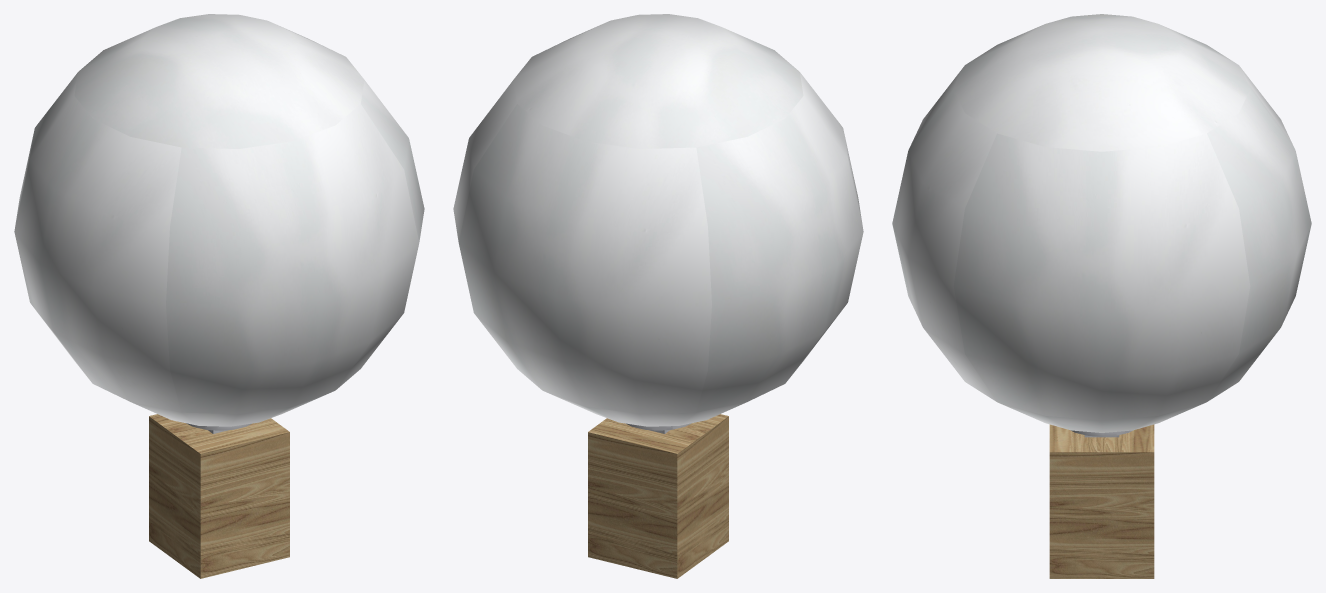
File: CeilingLamp001.FBX
3 views of the same model, side by side, from view 1: azimuth 30°, elevation 25°; view 2: azimuth 150°, elevation 25°; view 3: azimuth 270°, elevation 25° (orthographic).
Parts seen in each view (by area): view 1: CeilingLamp001; view 2: CeilingLamp001; view 3: CeilingLamp001.
Boxes of the visible parts, x1,y1,x2,y2 form: CeilingLamp001: (14,14,424,578); CeilingLamp001: (453,14,863,578); CeilingLamp001: (892,14,1311,578).
Size of the model in its own units: 31.63 by 43.54 by 31.63.
